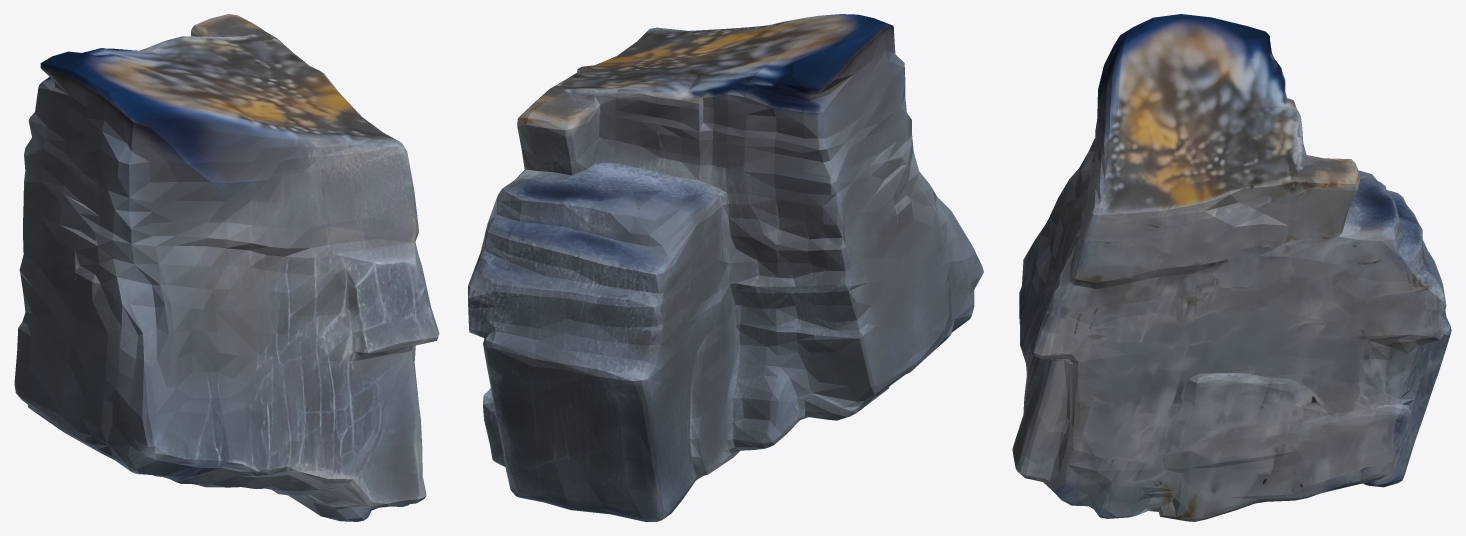
File: plagioclase_001.glb
3 renders of one model, left to right at view 1: azimuth 30°, elevation 25°; view 2: azimuth 150°, elevation 25°; view 3: azimuth 270°, elevation 25°, orthographic. The views are drawn at different scales.
Parts seen in each view (by area): view 1: tripo_node_26acbca8-b498-4552-b789-2ff46eb17064; view 2: tripo_node_26acbca8-b498-4552-b789-2ff46eb17064; view 3: tripo_node_26acbca8-b498-4552-b789-2ff46eb17064.
Part boxes in pixels (x1,y1,x2,y2): tripo_node_26acbca8-b498-4552-b789-2ff46eb17064: (14, 14, 439, 521); tripo_node_26acbca8-b498-4552-b789-2ff46eb17064: (468, 14, 983, 521); tripo_node_26acbca8-b498-4552-b789-2ff46eb17064: (1012, 14, 1451, 521).
Bounding box in the file's own units: 0.671 × 0.9444 × 0.9444.
Materials: 1 (1 with a texture image).
